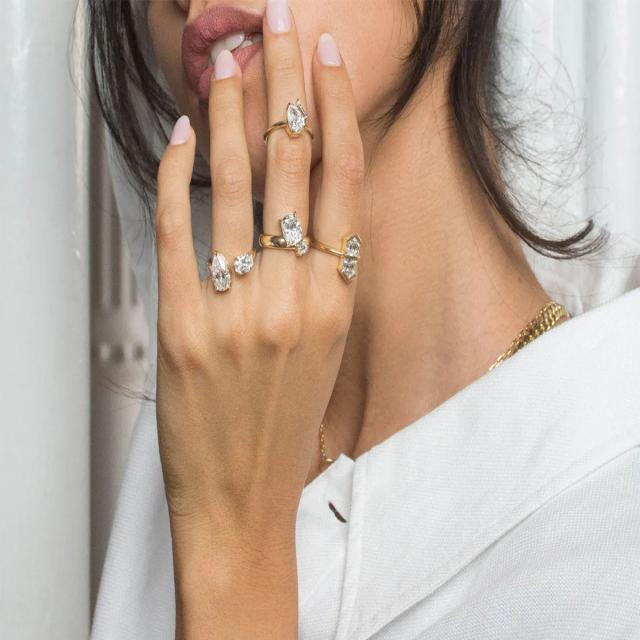Ring: (313, 219, 379, 292), (260, 202, 323, 268), (209, 237, 262, 304), (262, 99, 324, 155)
